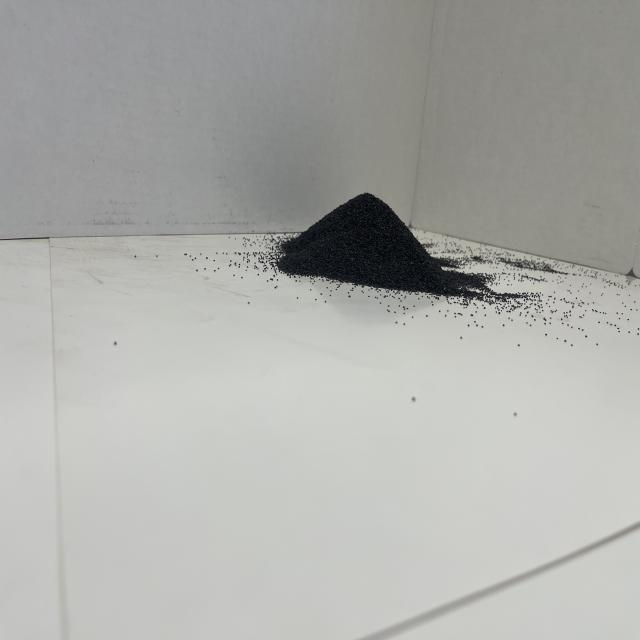Poppy Seeds: (272, 174, 507, 323)
